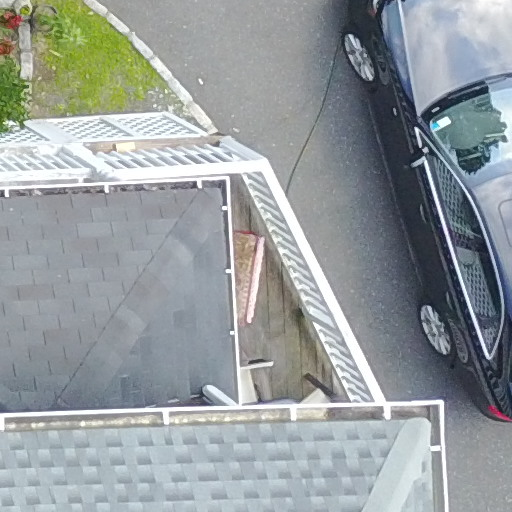porch: (1, 88, 424, 450)
